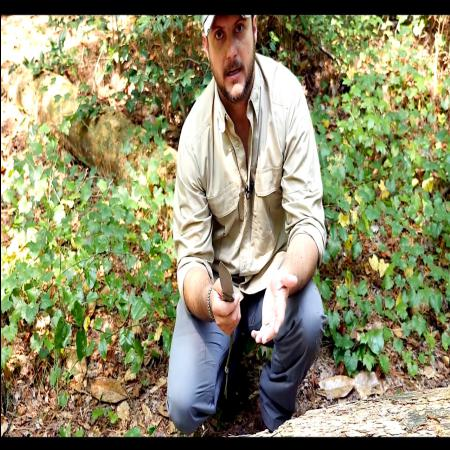long weapon: (213, 250, 242, 338)
